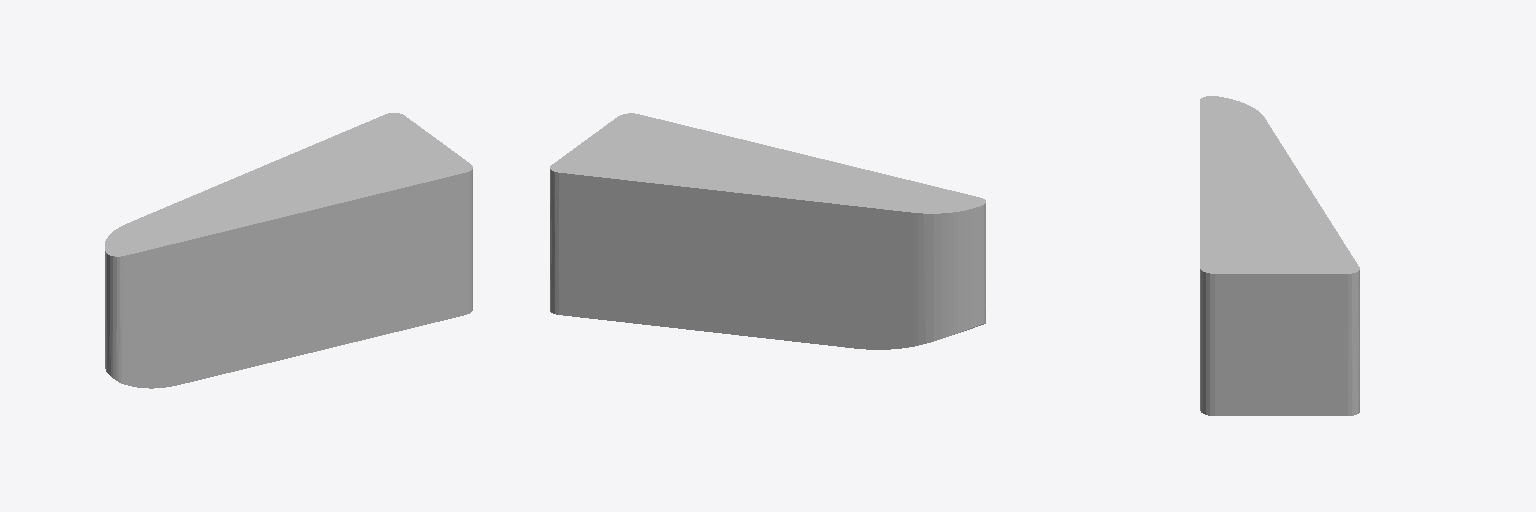
File: MotorLeft.obj
The picture shows the model from 3 angles: view 1: azimuth 30°, elevation 25°; view 2: azimuth 150°, elevation 25°; view 3: azimuth 270°, elevation 25°; orthographic projection.
Visible parts, largest first — view 1: MotorLeft; view 2: MotorLeft; view 3: MotorLeft.
Part boxes in pixels (bbox=[...]): MotorLeft: bbox=[105, 113, 472, 388]; MotorLeft: bbox=[550, 113, 985, 349]; MotorLeft: bbox=[1200, 96, 1359, 415].
Size of the model in its own units: 28.15 by 10.5 by 10.7.